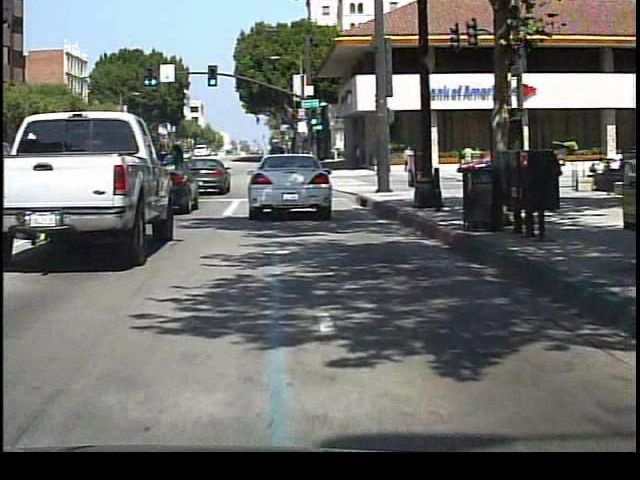person: (457, 139, 476, 174), (399, 143, 417, 177)
